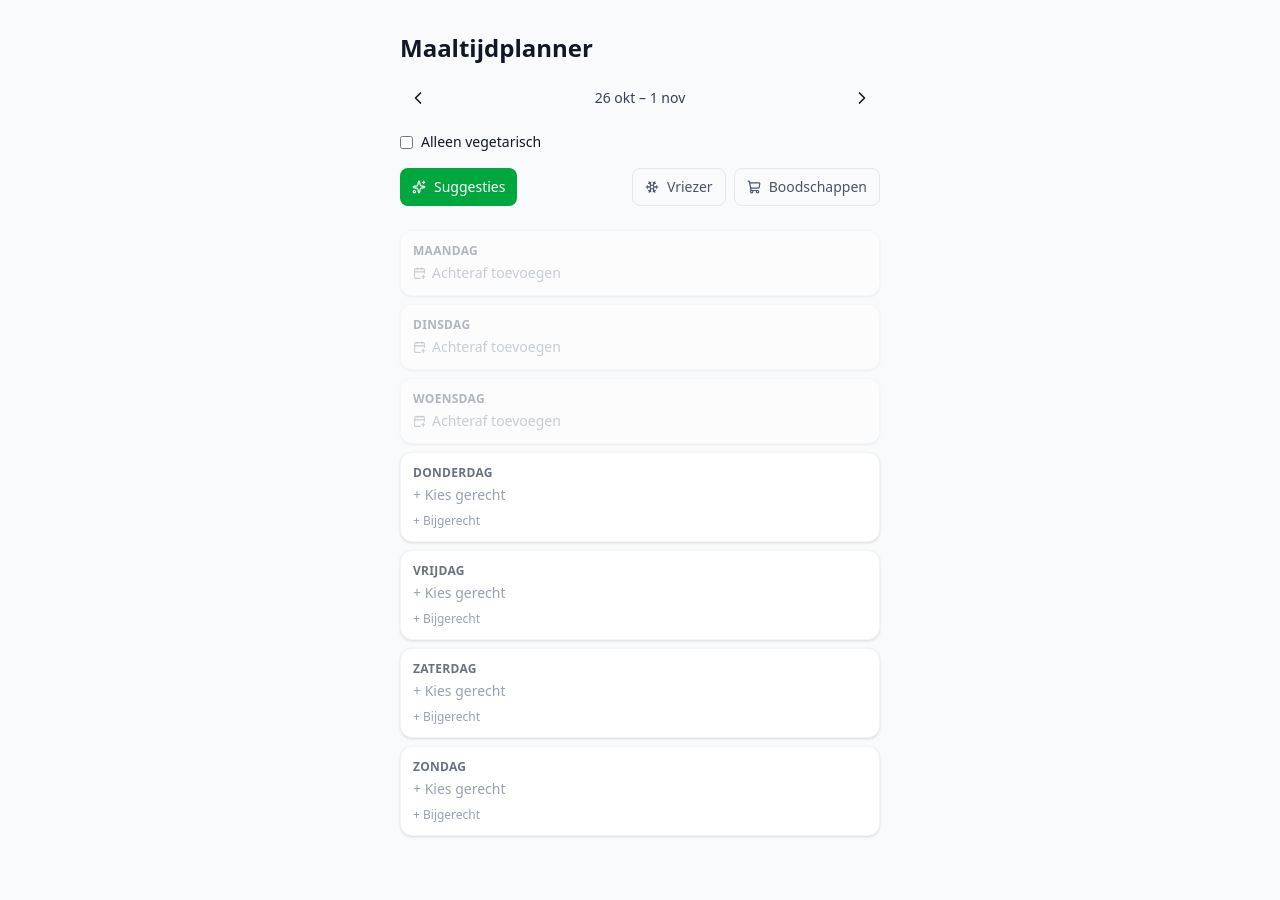
Planner grocery share button › shows an error message when navigator.share fails for another reason
The width and height of the screenshot is (1280, 900).
Check: the heading "Maaltijdplanner" is shown, box [400, 32, 593, 64]
Click the button "Boodschappen": (807, 187) [734, 168, 880, 206]
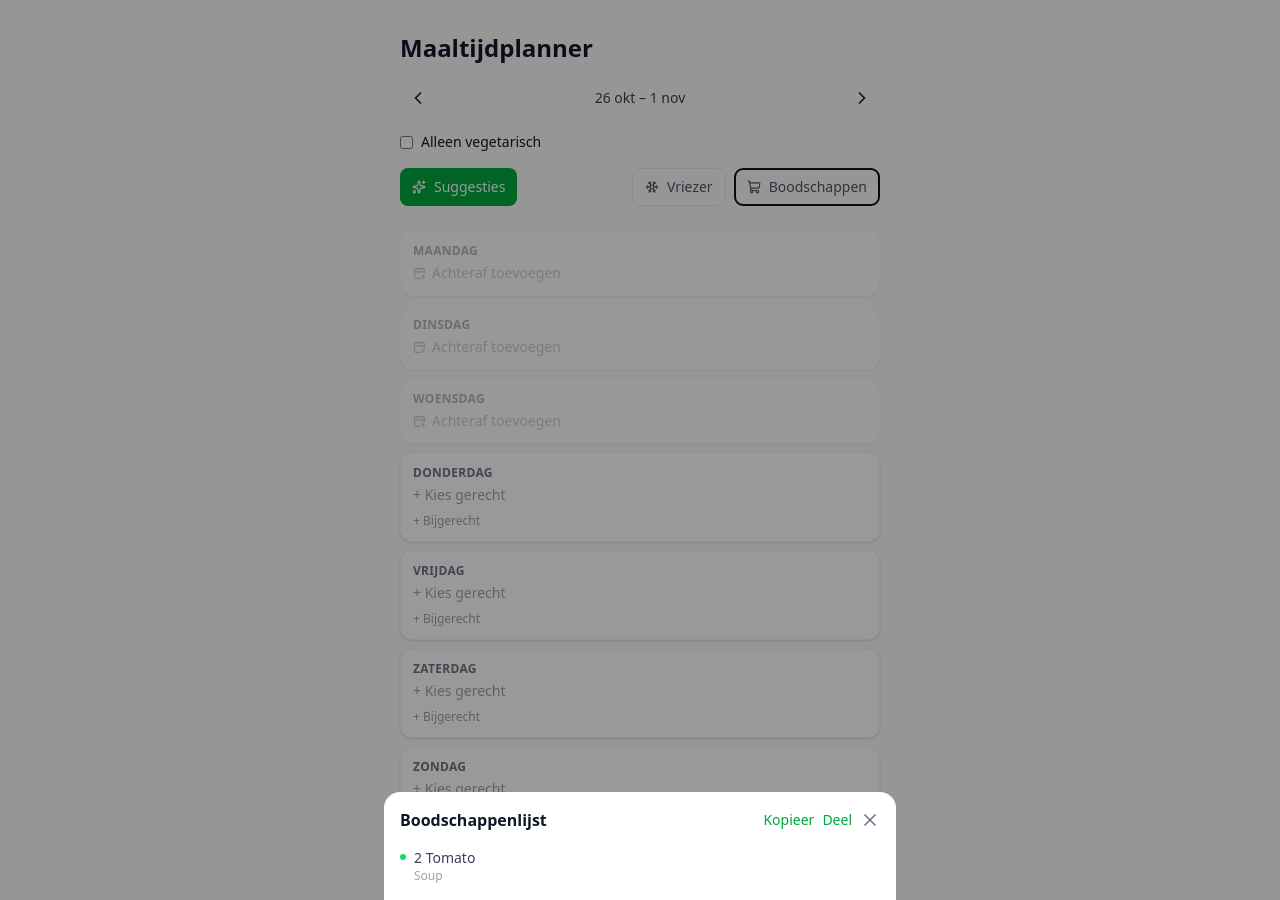
Check: the heading "Boodschappenlijst" is shown, box [400, 808, 547, 832]
Click the button "Deel": (837, 820) [822, 810, 852, 830]
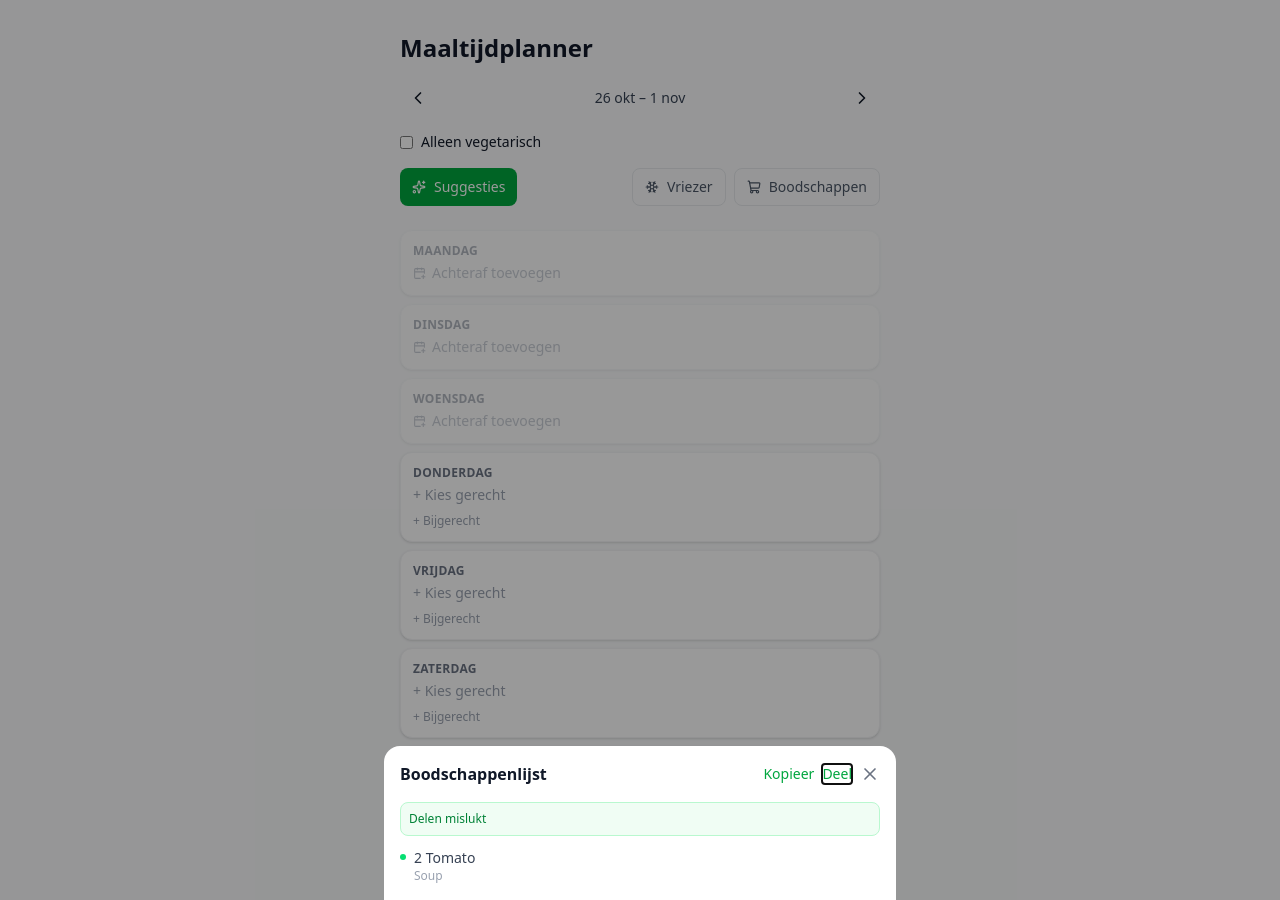
Check: the text "Delen mislukt" is shown, box [400, 802, 880, 836]
